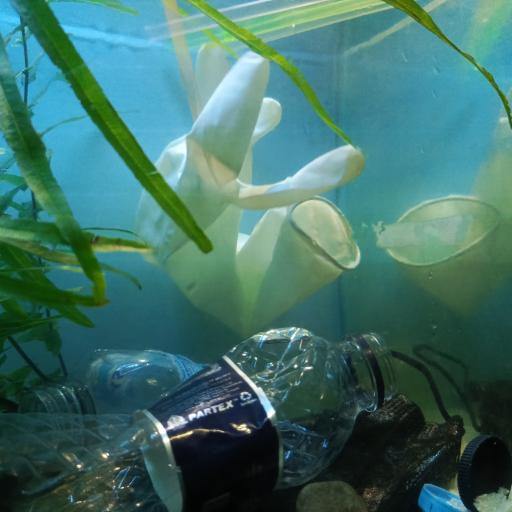bottle_cap: (457, 430, 512, 512), (415, 480, 470, 512)
glove: (132, 46, 368, 330)
mask: (343, 345, 465, 512)
plastic_bottle: (0, 322, 395, 512), (25, 345, 214, 422)
plastic_straw: (146, 2, 392, 43), (223, 1, 394, 49), (162, 0, 202, 121)
